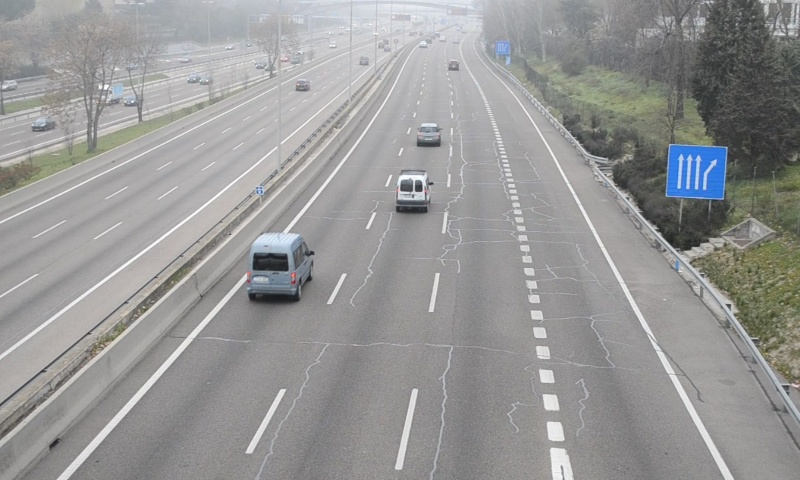car: (415, 122, 442, 148)
van: (245, 233, 311, 296), (395, 172, 431, 210)
